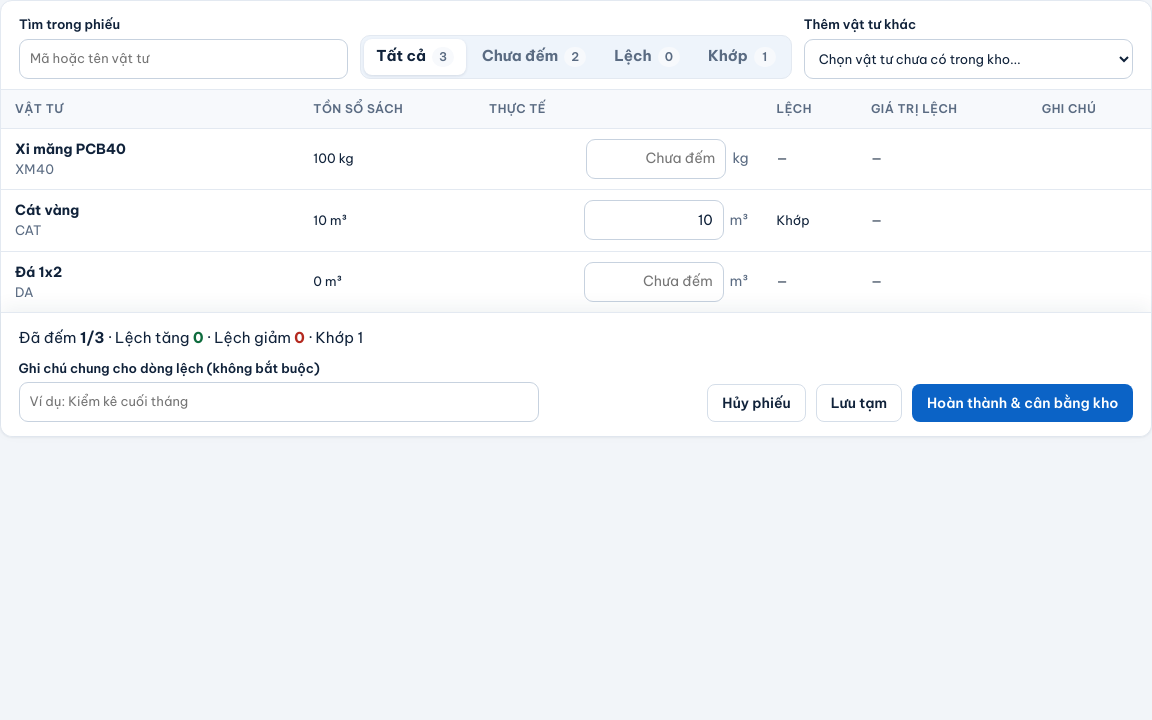
Test: adds a material found on the floor and filters the sheet
Select "GACH · Gạch đặc" in the dropdown labelled "Thêm vật tư khác" at (968, 58), box top-left (804, 38), bottom-right (1133, 78)
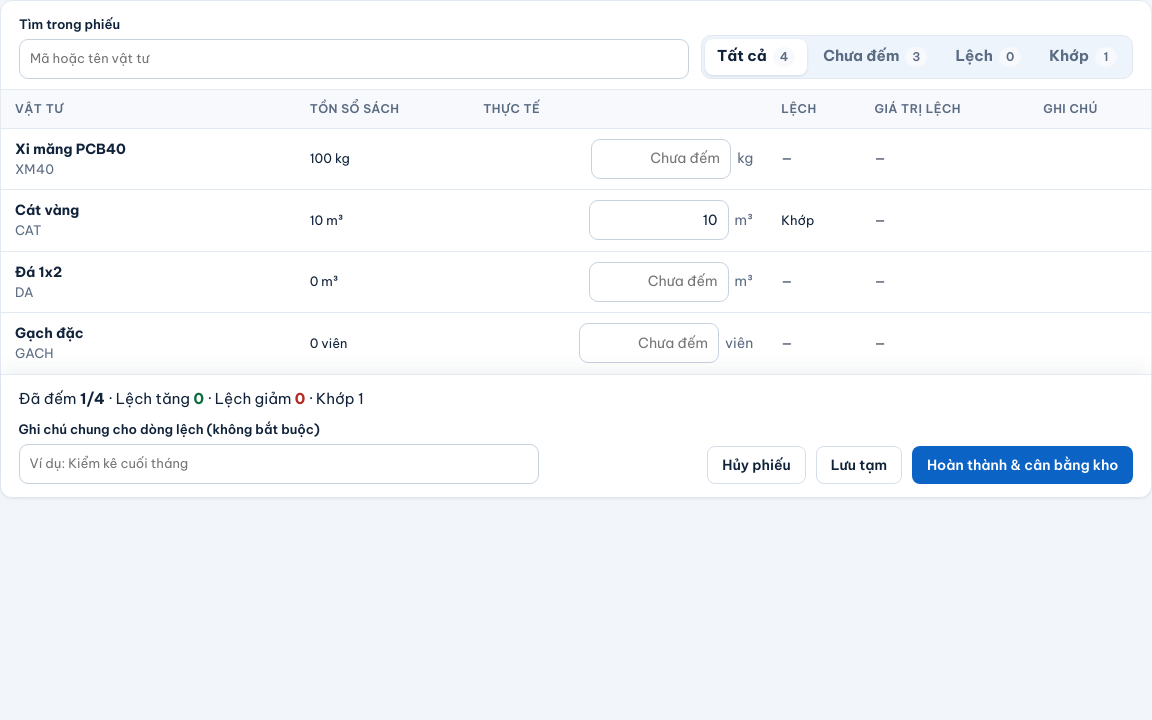
Expected: the field named "Thực tế Gạch đặc" is shown, top-left (579, 323), bottom-right (719, 363)
Click the button "Khớp 1" at (1083, 56), box top-left (1037, 38), bottom-right (1129, 74)
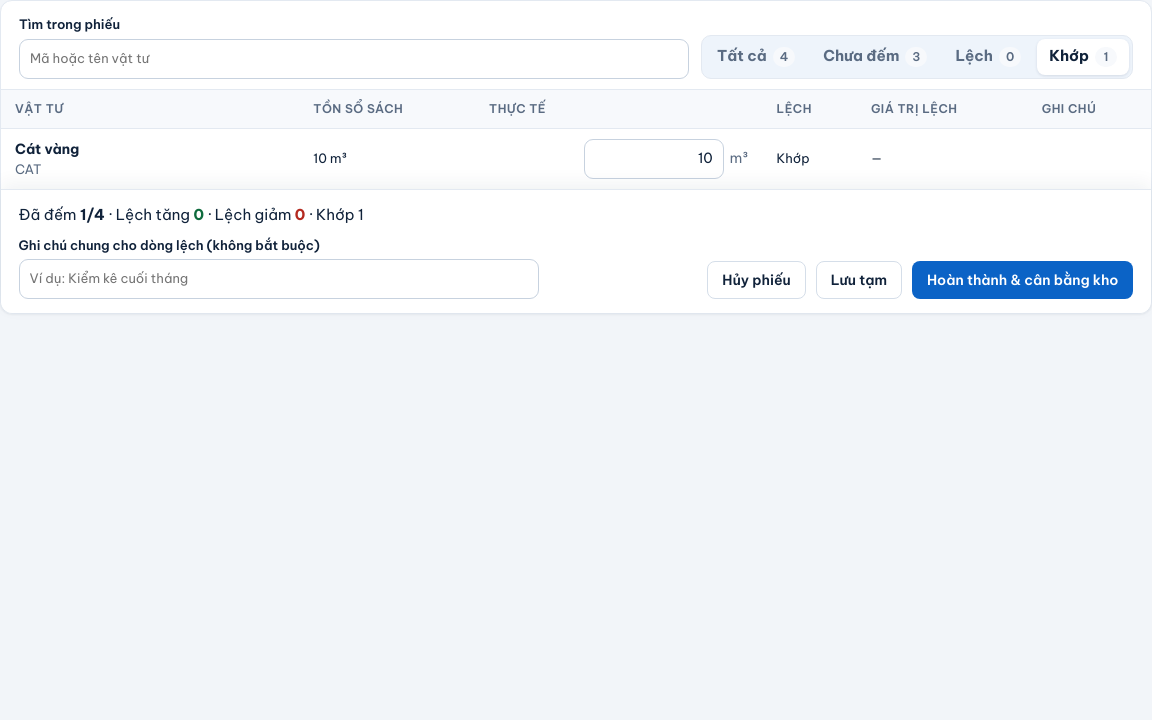
Expected: the text "Cát vàng" is shown, top-left (15, 140), bottom-right (79, 158)
Expected: the text "Xi măng PCB40" is gone
Click the button "Tất cả 4" at (756, 56), box top-left (705, 38), bottom-right (807, 74)
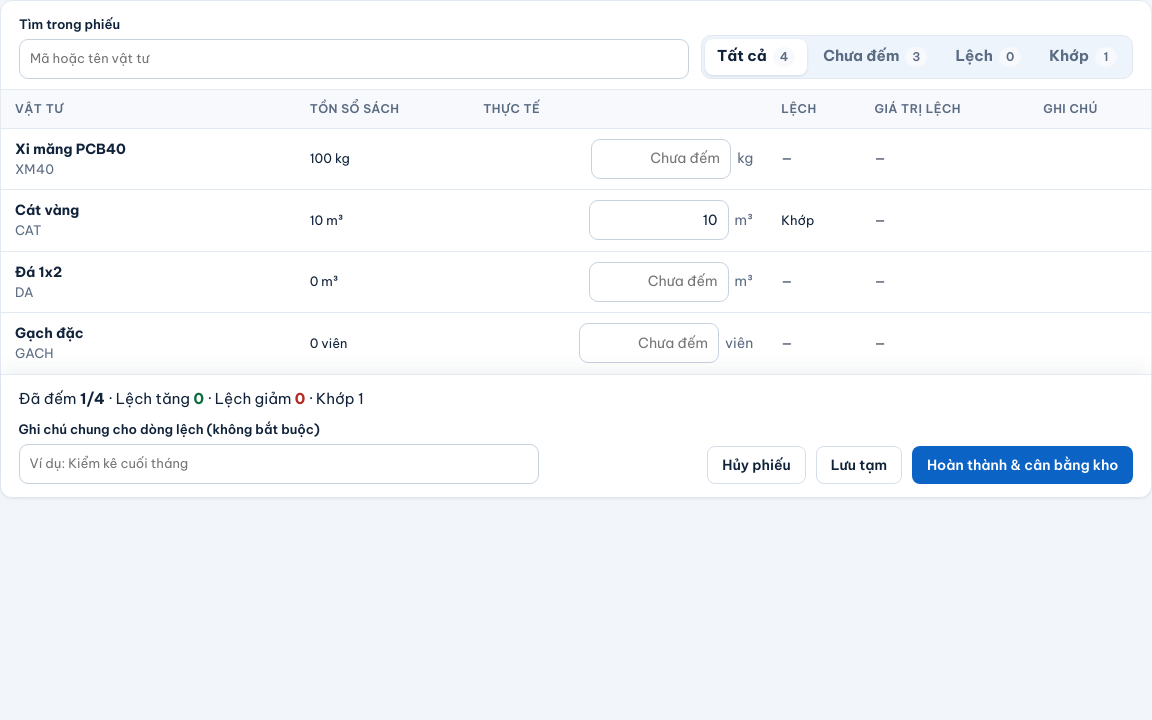
Type "xi" into the search field labelled "Tìm trong phiếu" at (354, 58), box top-left (19, 38), bottom-right (689, 78)
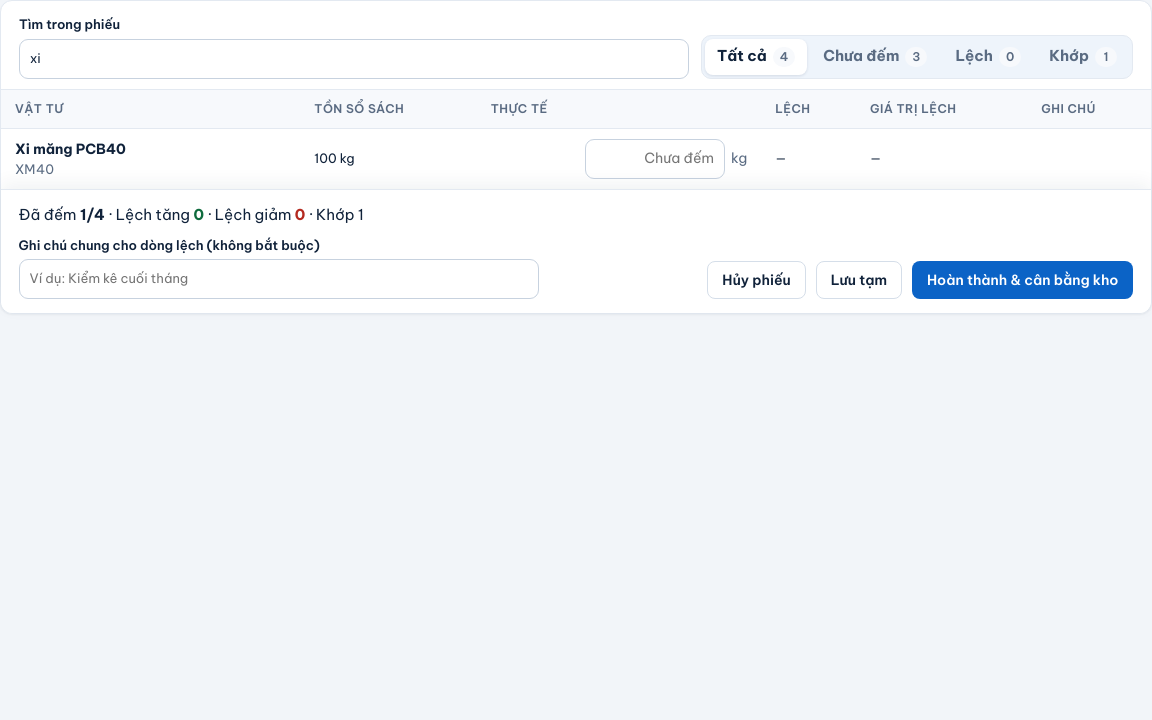
Expected: the text "Xi măng PCB40" is shown, top-left (15, 140), bottom-right (126, 158)
Expected: the text "Cát vàng" is gone
